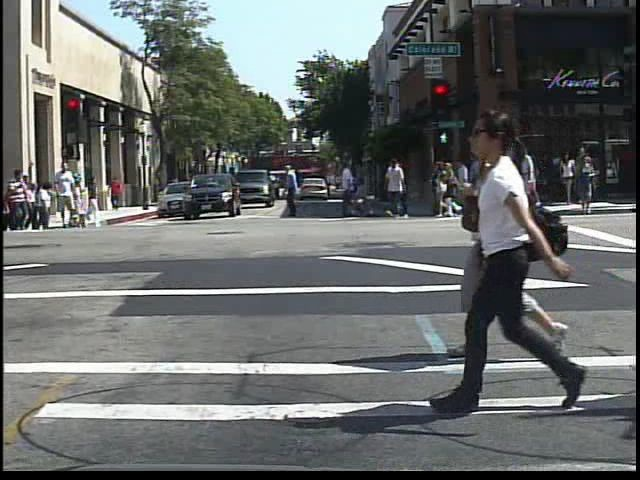person: (457, 103, 572, 416), (435, 114, 522, 355), (514, 143, 547, 214), (52, 162, 81, 231), (8, 164, 32, 233), (107, 175, 127, 213), (168, 171, 185, 203)
